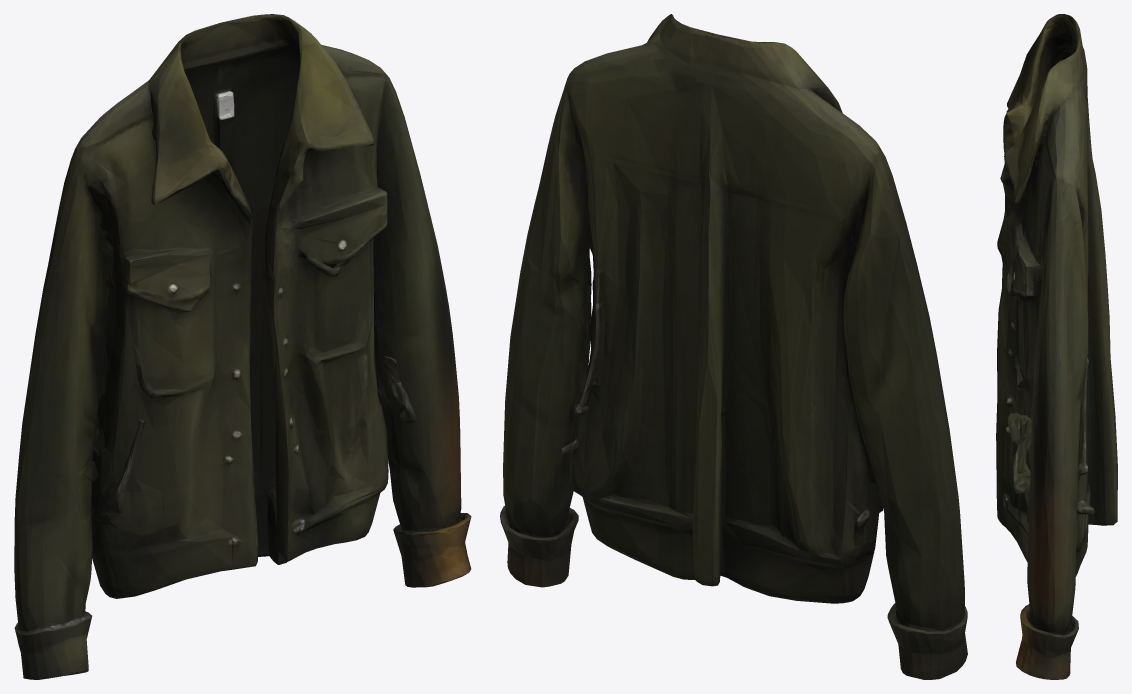
Rendered from jacket_green.glb.
3 renders of one model, left to right at view 1: azimuth 30°, elevation 25°; view 2: azimuth 150°, elevation 25°; view 3: azimuth 270°, elevation 25°, orthographic. The views are drawn at different scales.
Parts seen in each view (by area): view 1: geometry_0; view 2: geometry_0; view 3: geometry_0.
Part boxes in pixels (bbox=[...]): geometry_0: bbox=[14, 14, 471, 679]; geometry_0: bbox=[500, 14, 967, 679]; geometry_0: bbox=[996, 14, 1117, 679].
Bounding box in the file's own units: 0.7954 × 1 × 0.2001.
1 material, 1 textured.
